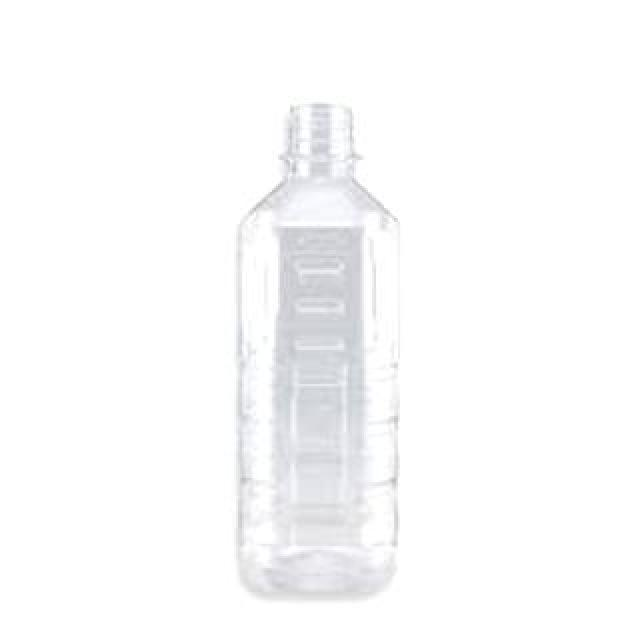Pet_Bottle: (235, 103, 405, 599)
